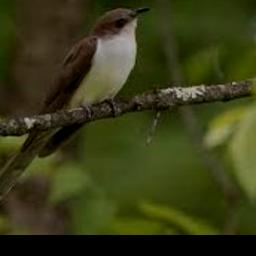Cuckoo: (0, 6, 152, 221)
